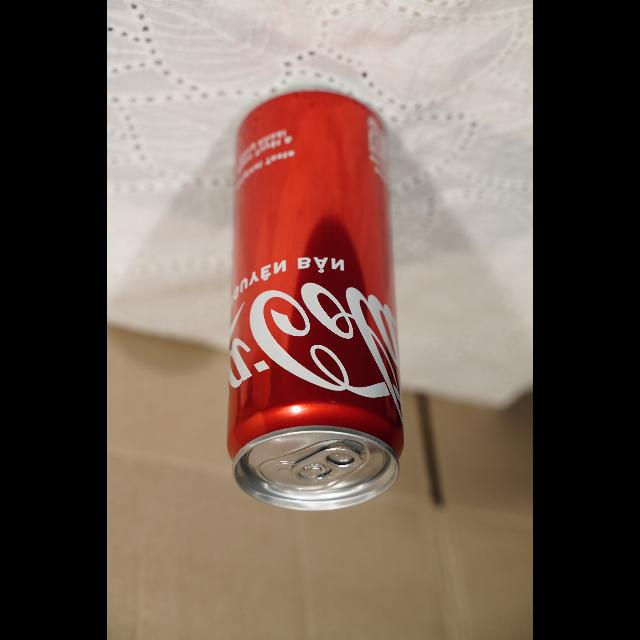coca_cola: (227, 90, 406, 512)
